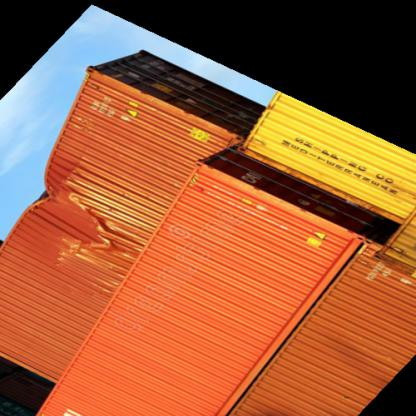Damage: (31, 174, 107, 286)
